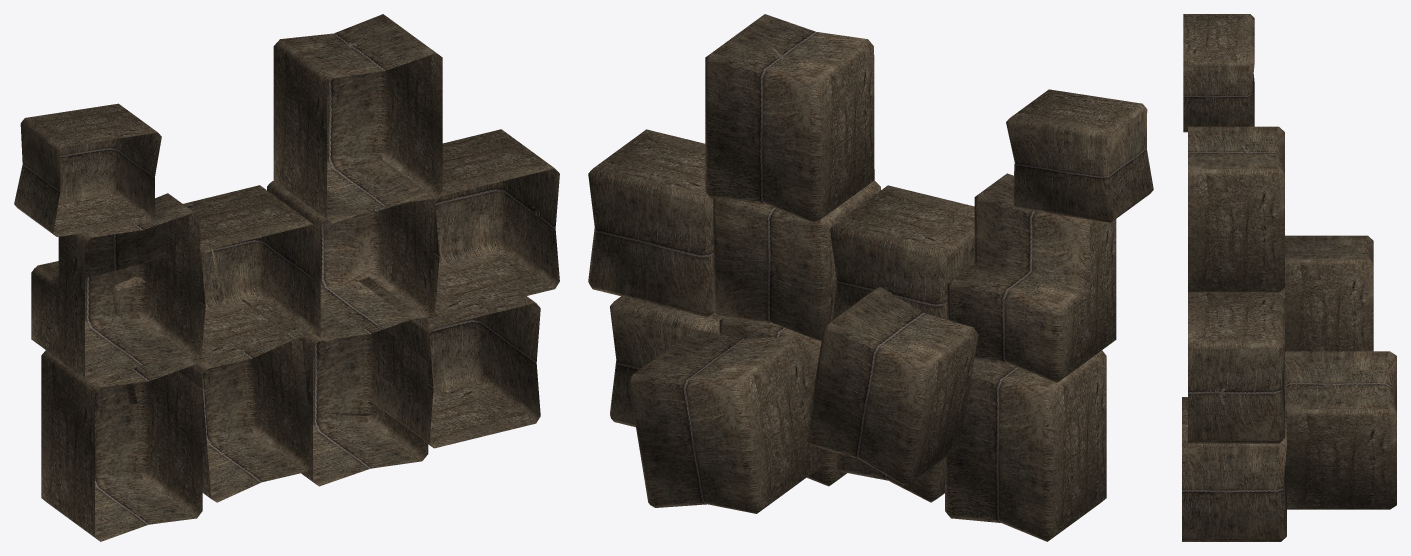
File: caobao.FBX
The picture shows the model from 3 angles, left to right: view 1: azimuth 30°, elevation 25°; view 2: azimuth 150°, elevation 25°; view 3: azimuth 270°, elevation 25°; orthographic projection. The views are drawn at different scales.
Visible parts, largest first — view 1: Mesh_0228; view 2: Mesh_0228; view 3: Mesh_0228.
Boxes of the visible parts, box(x1,y1,x2,y2) form: Mesh_0228: box(14, 14, 559, 541); Mesh_0228: box(588, 14, 1153, 541); Mesh_0228: box(1182, 14, 1396, 541).
Size of the model in its own units: 5.3 by 4.04 by 2.27.
Materials: 1 (1 with a texture image).
